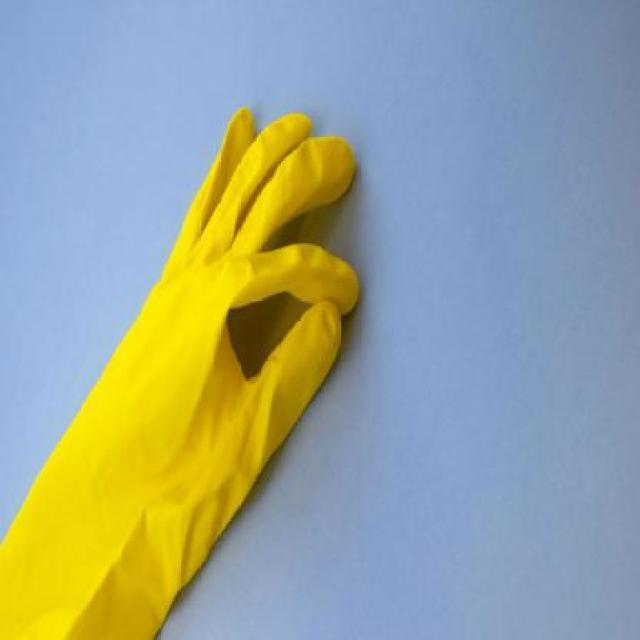glove_hand: (0, 100, 366, 640)
